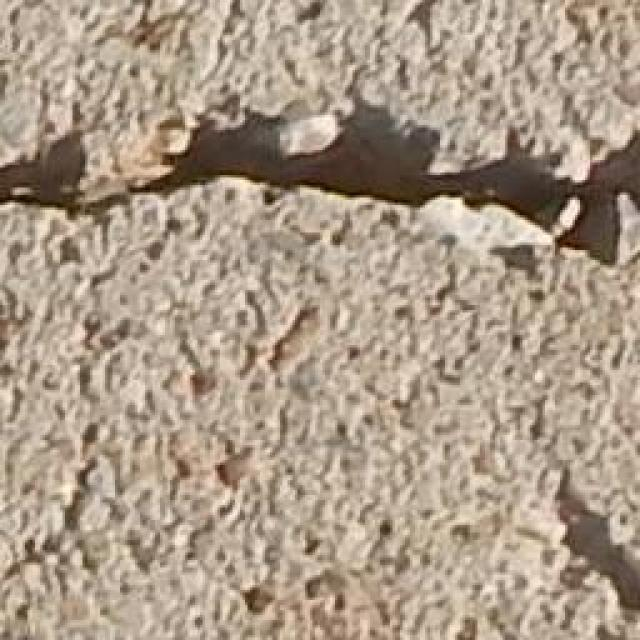concrete-crack: (4, 84, 640, 277), (539, 468, 640, 640)
